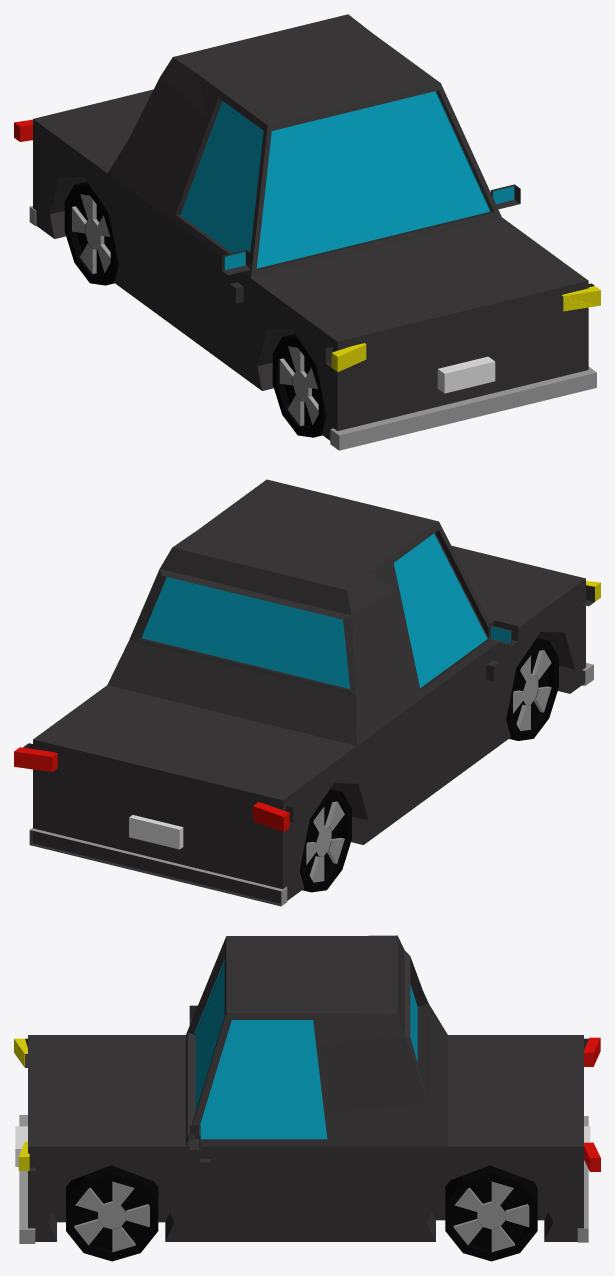
The model's file is carSeparatedRotated.fbx.
The picture shows the model from 3 angles, top to bottom: view 1: azimuth 30°, elevation 25°; view 2: azimuth 150°, elevation 25°; view 3: azimuth 270°, elevation 25°; orthographic projection. The views are drawn at different scales.
Parts seen in each view (by area): view 1: Cube, Cube.002, Cube.001; view 2: Cube, Cube.001, Cube.002; view 3: Cube, Cube.004, Cube.003.
Part boxes in pixels (x1,y1,x2,y2): Cube: [14, 14, 600, 450]; Cube.002: [64, 181, 118, 285]; Cube.001: [272, 334, 326, 437]; Cube: [14, 479, 600, 906]; Cube.001: [506, 638, 558, 740]; Cube.002: [299, 789, 351, 892]; Cube: [14, 935, 600, 1243]; Cube.004: [445, 1165, 537, 1261]; Cube.003: [66, 1165, 158, 1261].
Bounding box in the file's own units: 302 × 253 × 574.
